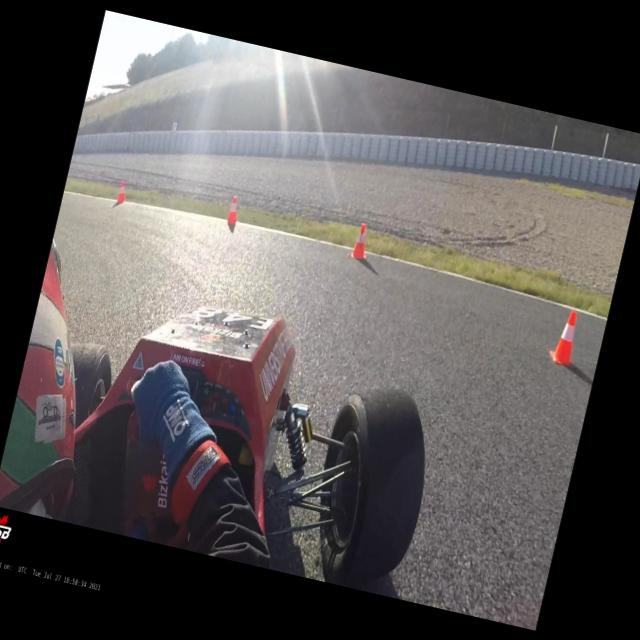orange_cone: (545, 307, 583, 367), (348, 222, 372, 260), (224, 194, 242, 225), (114, 180, 128, 206)
